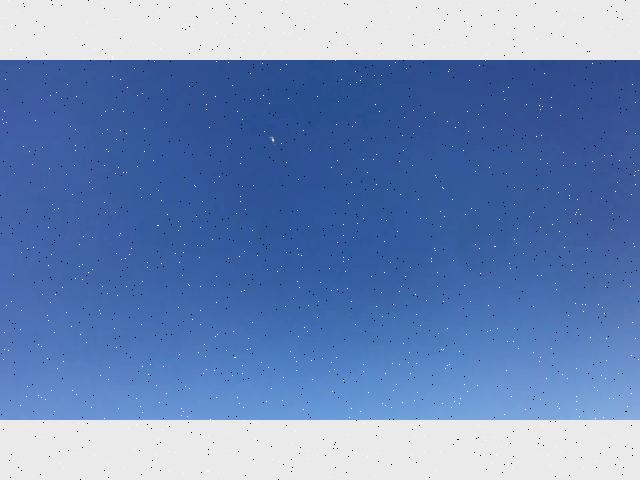Anti-Drone: (260, 124, 286, 152)
